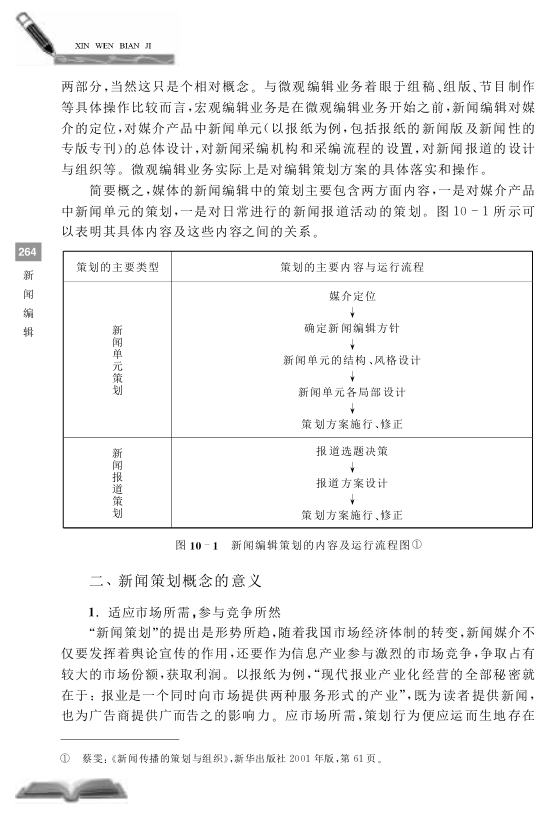table: (62, 250, 533, 529)
